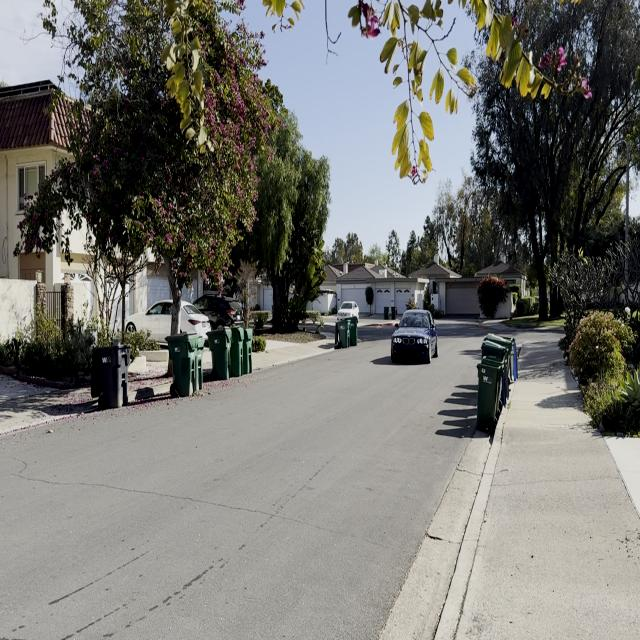Carbeetle: (389, 292, 440, 378)
